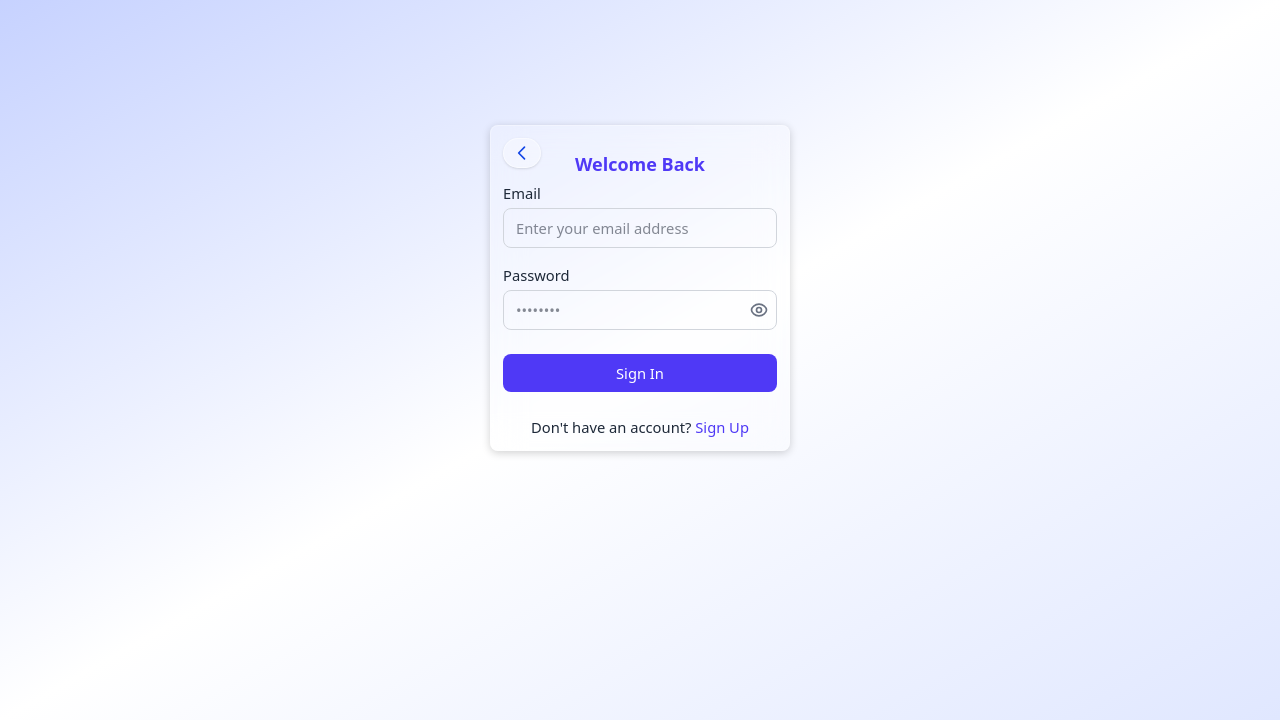
SignIn Page › shows errors for invalid input and login flow
Submit empty form to trigger "fields required" error
Submit the form with placeholder "Enter your email", box [503,182,777,438]
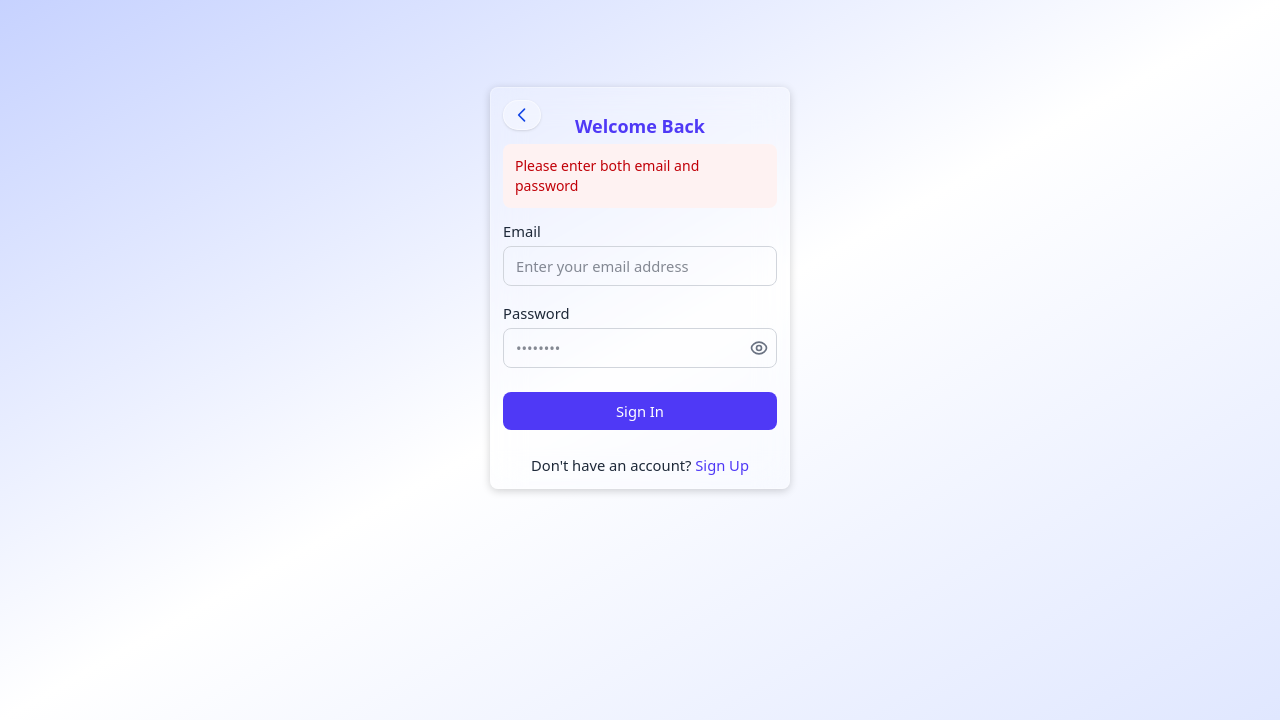
Result: the text "Please enter both email and password" is shown at [503,144,777,208]
Enter invalid email format and a password
In the field with placeholder "Enter your email address": x=640, y=266 [503,246,777,286], type "invalidemail"
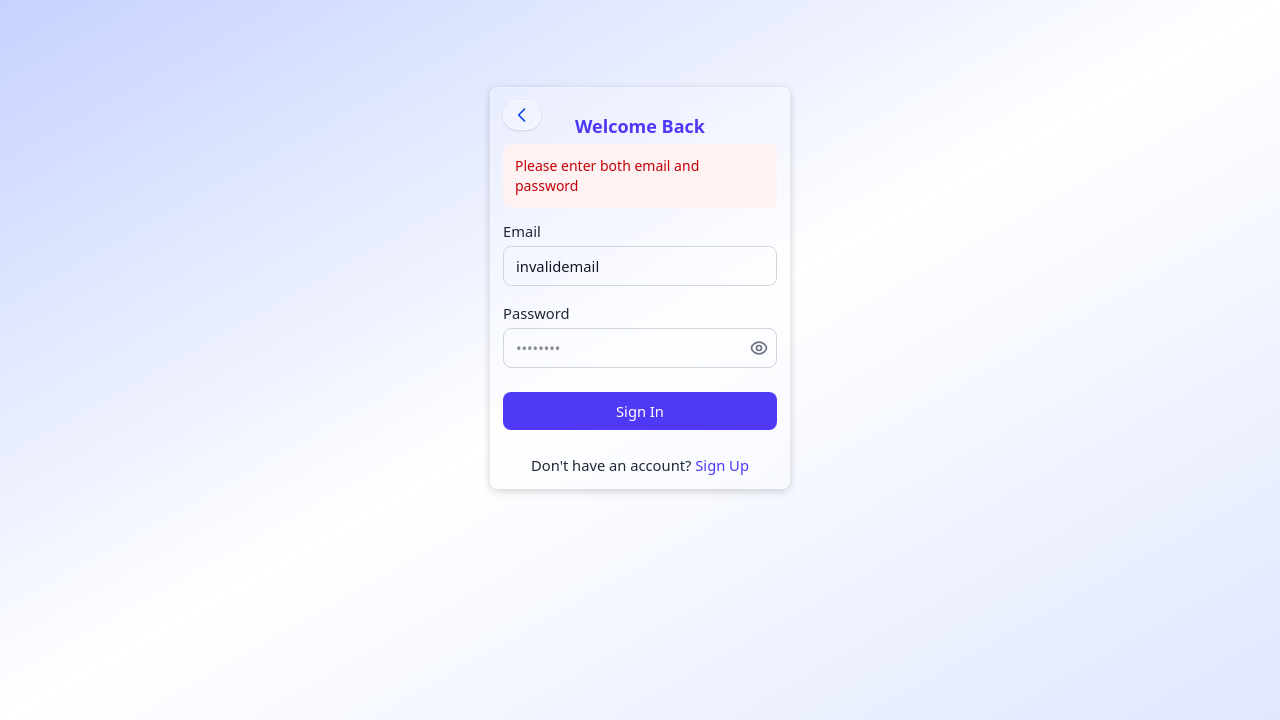
In the password field with placeholder "••••••••": x=640, y=348 [503,328,777,368], type "abcdef"
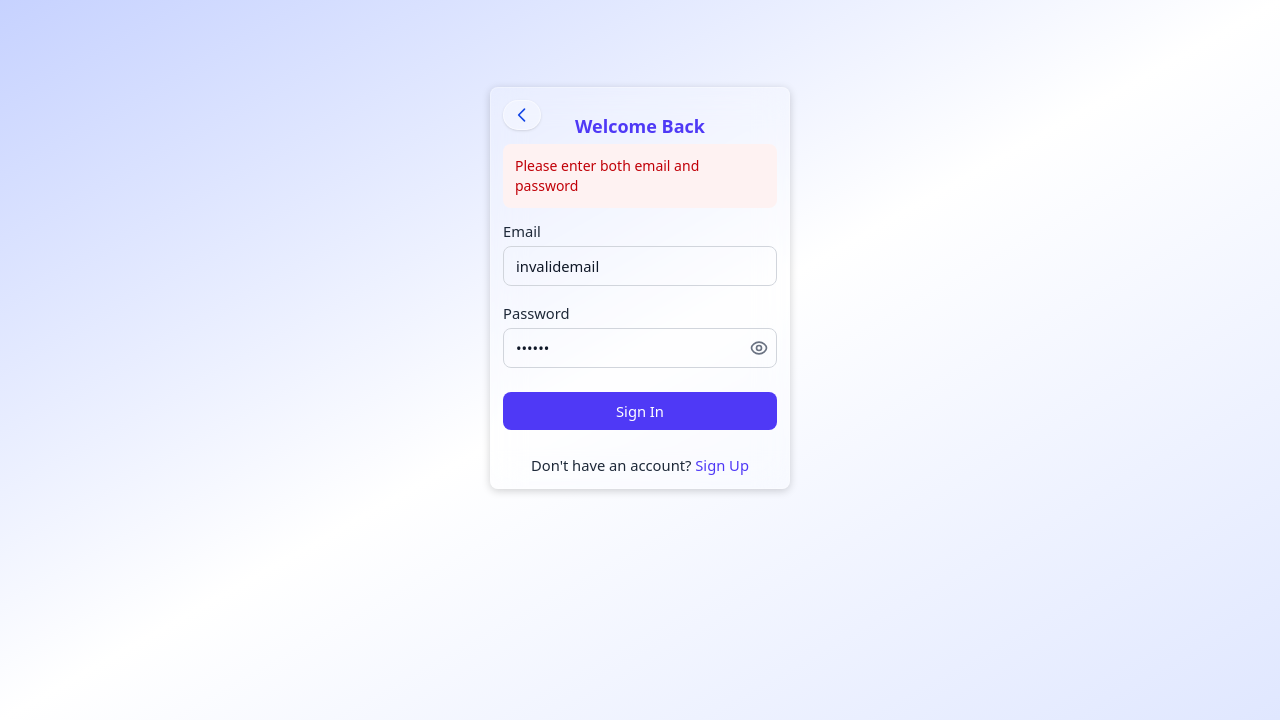
Submit form again to check email validation error
Submit the form with placeholder "Enter your email", box [503,220,777,476]
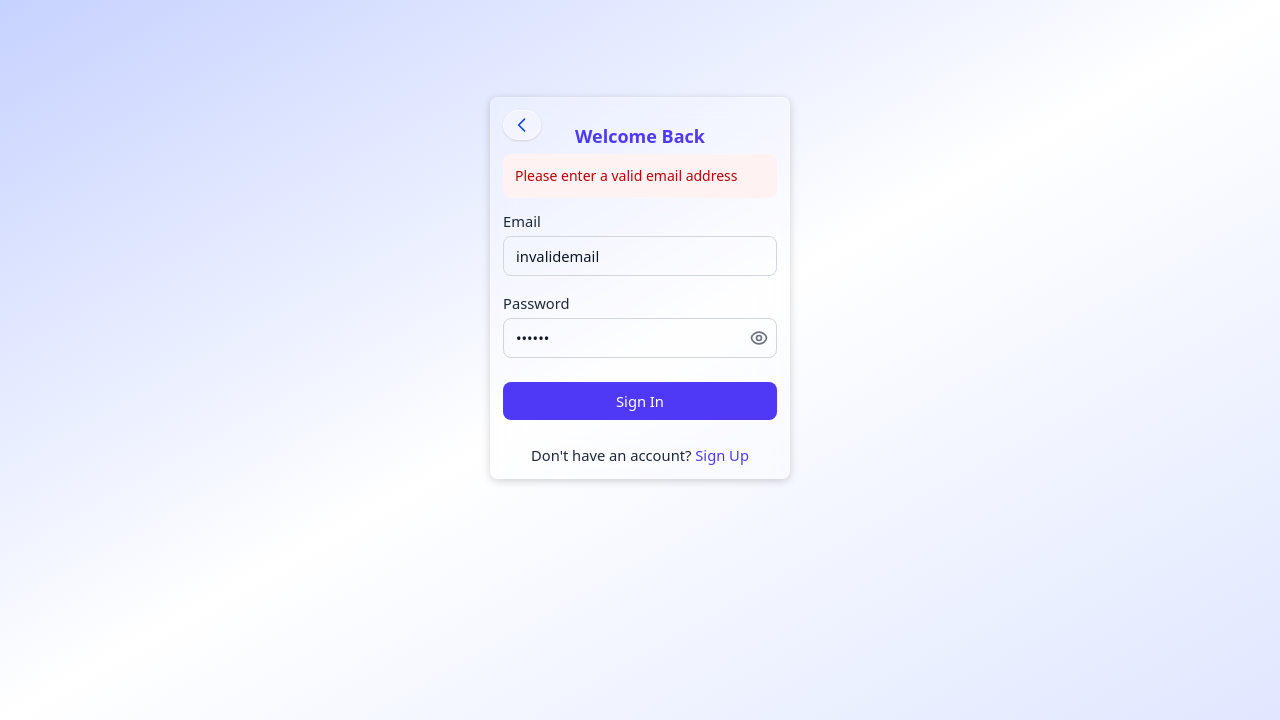
Result: the text "Please enter a valid email address" is shown at [503,154,777,198]
